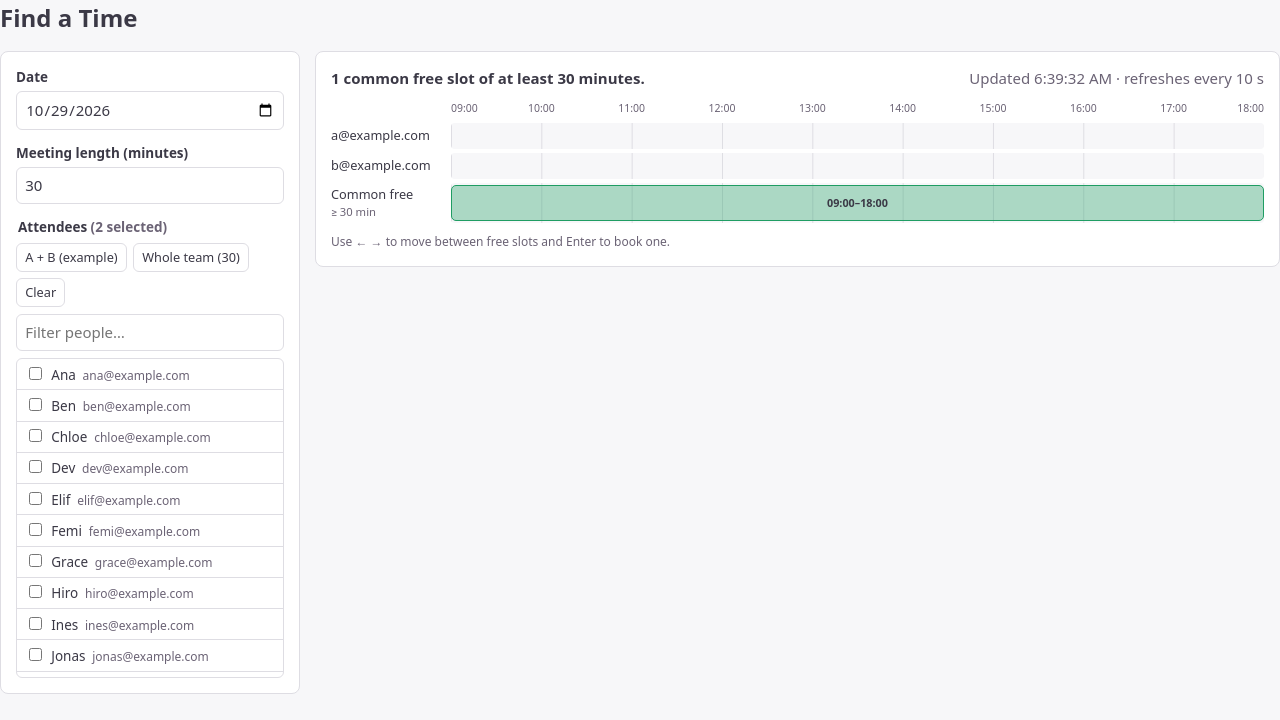
Test: FindATimePage › stays responsive when changing D with 30 attendees × 20 bookings, without refetching
The width and height of the screenshot is (1280, 720).
Step 1. Click the button "Whole team (30)" → [191, 258], box x1=133 y1=243 x2=249 y2=272
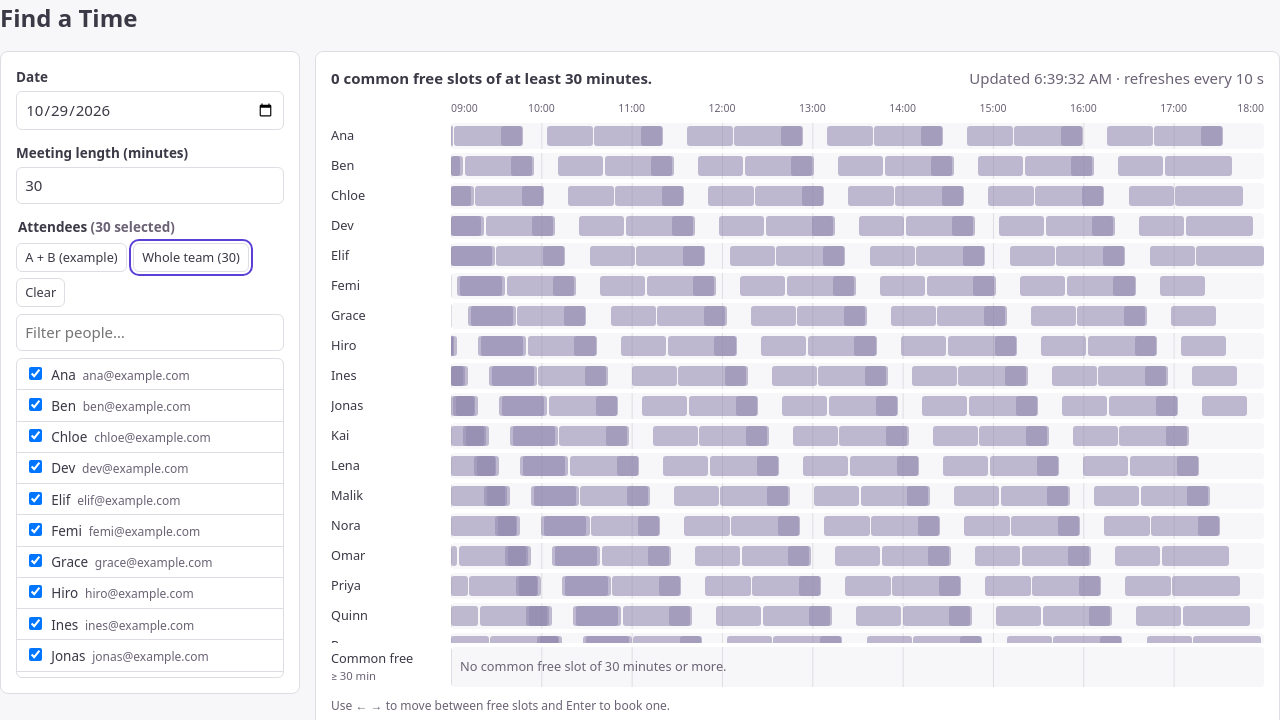
Expected: the text "0 common free slots of at least 30 minutes." is shown, x1=331 y1=67 x2=652 y2=90
Expected: the text "Ana" is shown 2 times
Step 2. Replace the text in the number field labelled "Meeting length (minutes)" with "15" → [150, 185], box x1=16 y1=167 x2=284 y2=204
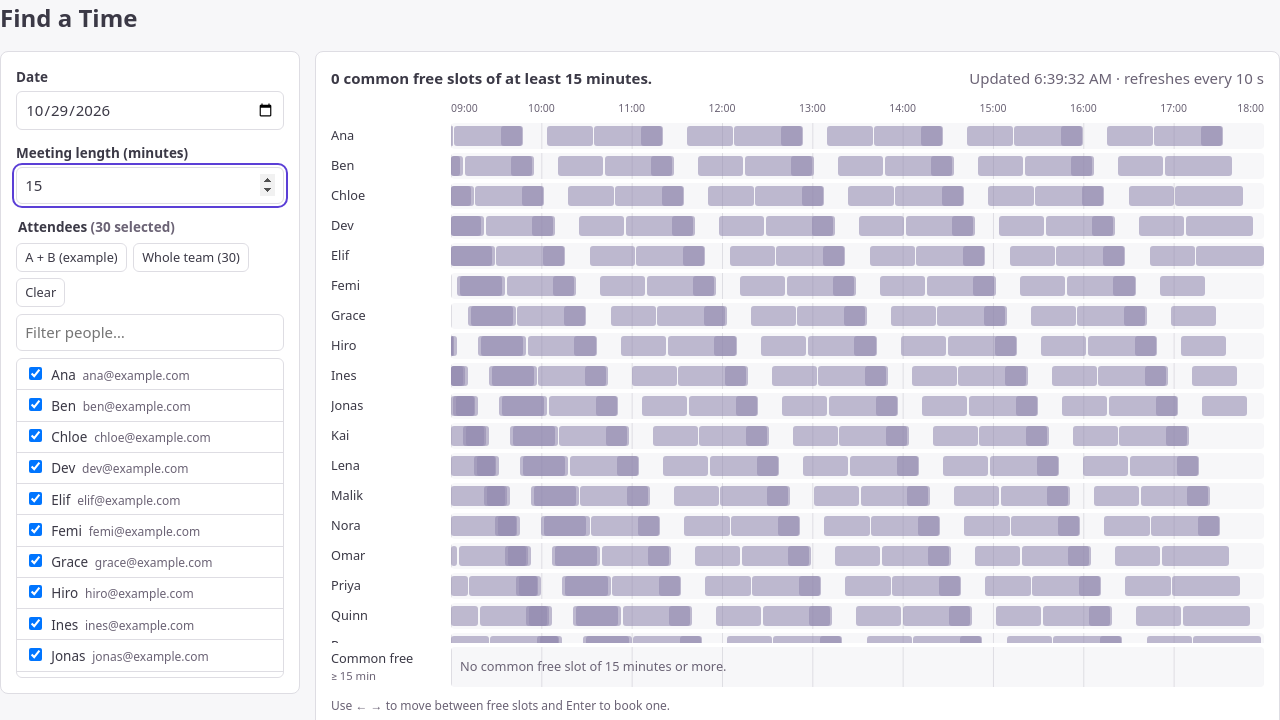
Expected: the text "0 common free slots of at least 15 minutes." is shown, x1=331 y1=67 x2=652 y2=90
